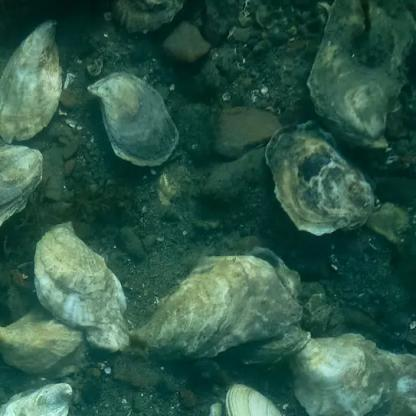Oyster-Closed: (133, 255, 303, 356), (308, 0, 416, 150), (35, 220, 133, 352), (265, 120, 375, 236), (289, 334, 416, 416), (88, 72, 180, 165), (0, 19, 62, 144), (0, 304, 107, 374), (0, 144, 43, 226), (241, 325, 310, 367), (0, 383, 74, 416), (112, 0, 188, 31)
